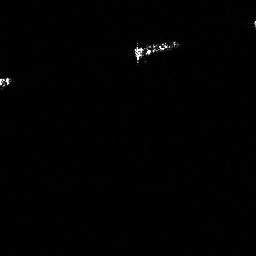ship: (130, 37, 182, 69)
